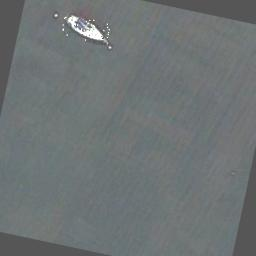boat: (59, 14, 110, 45)
